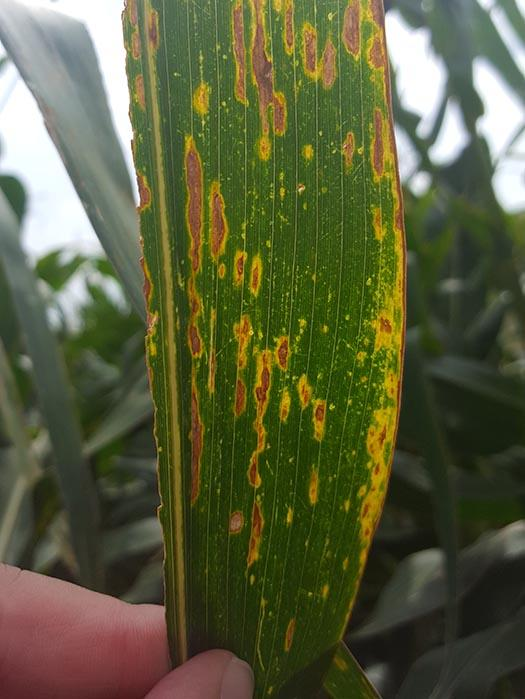Corn leaf blight: (110, 5, 413, 602)
